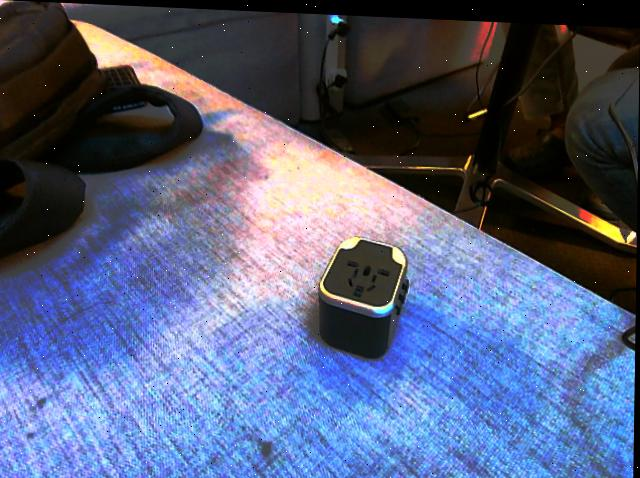adapter: (317, 232, 410, 356)
